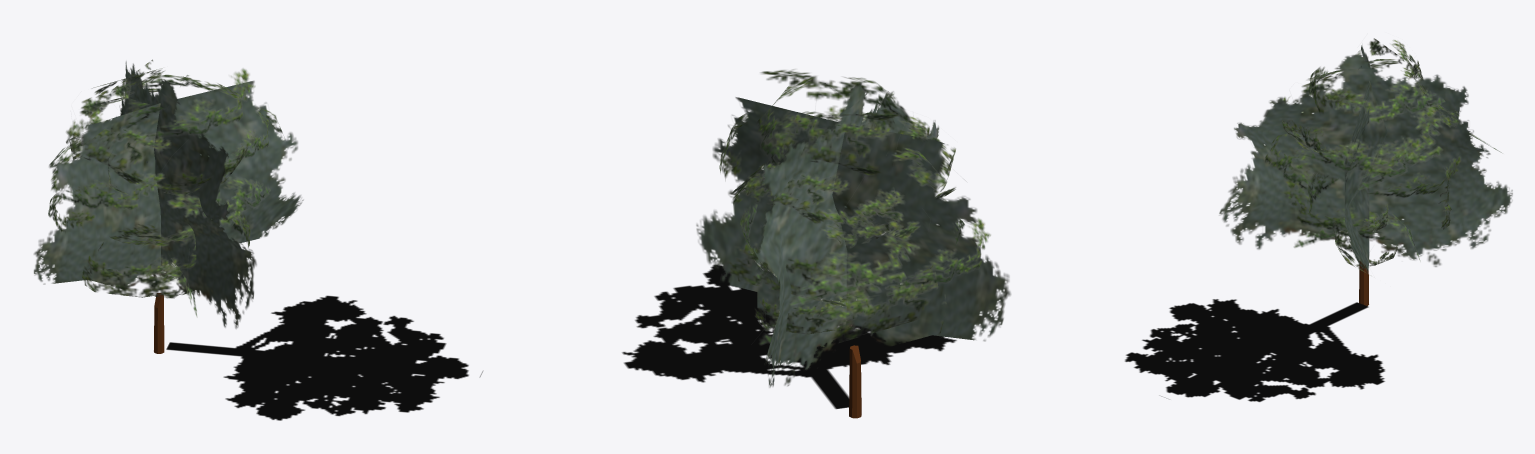
Rendered from tree2.glb.
The picture shows the model from 3 angles, left to right: view 1: azimuth 30°, elevation 25°; view 2: azimuth 150°, elevation 25°; view 3: azimuth 270°, elevation 25°; orthographic projection. The views are drawn at different scales.
Visible parts, largest first — view 1: tree; view 2: tree; view 3: tree.
Boxes of the visible parts, x1=… form: tree: x1=34, y1=59, x2=482, y2=420; tree: x1=622, y1=69, x2=1010, y2=418; tree: x1=1125, y1=38, x2=1512, y2=401.
Size of the model in its own units: 22.65 by 13.12 by 21.96.
3 materials, 2 textured.
